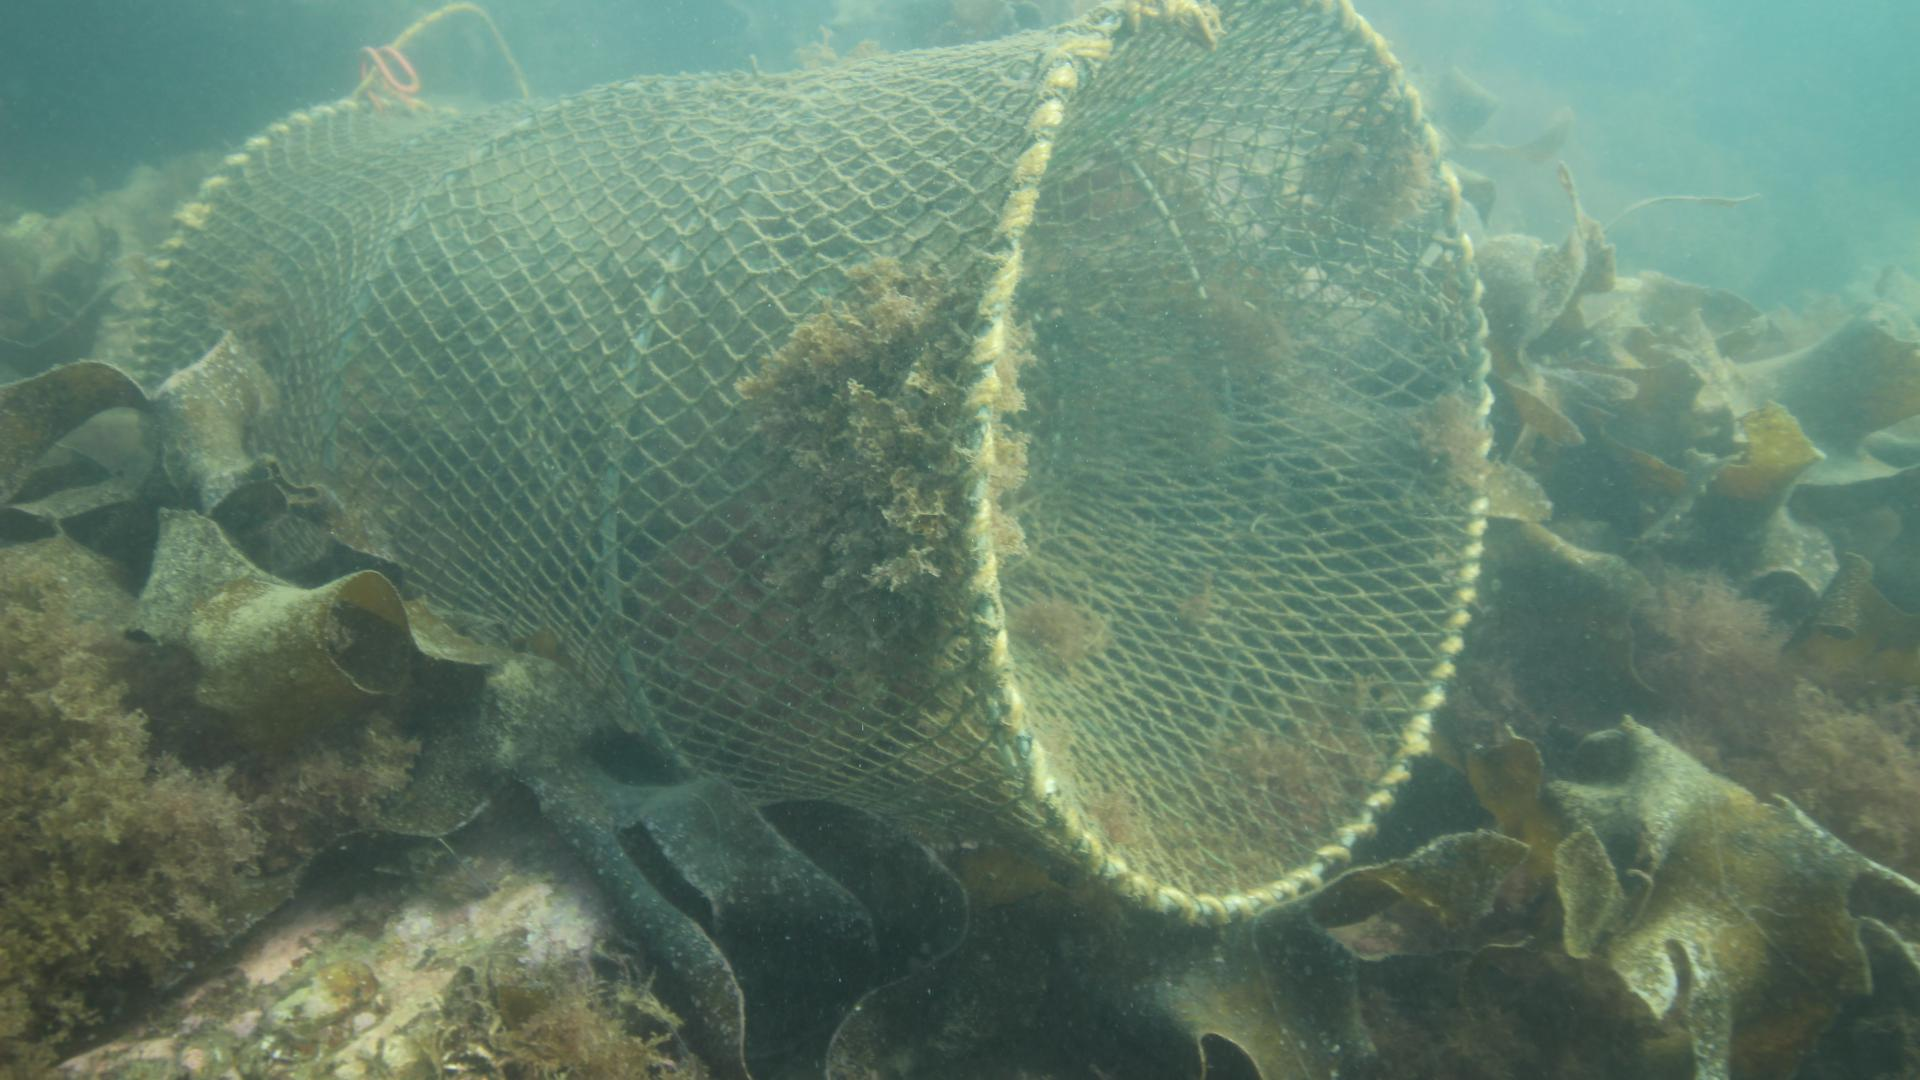rope: (351, 1, 535, 100)
spring fish trap: (131, 0, 1493, 926)
